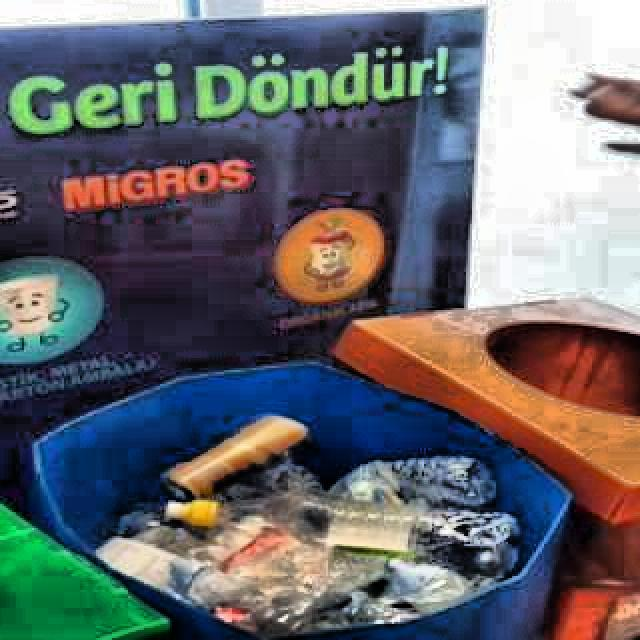metal: (165, 418, 309, 500)
